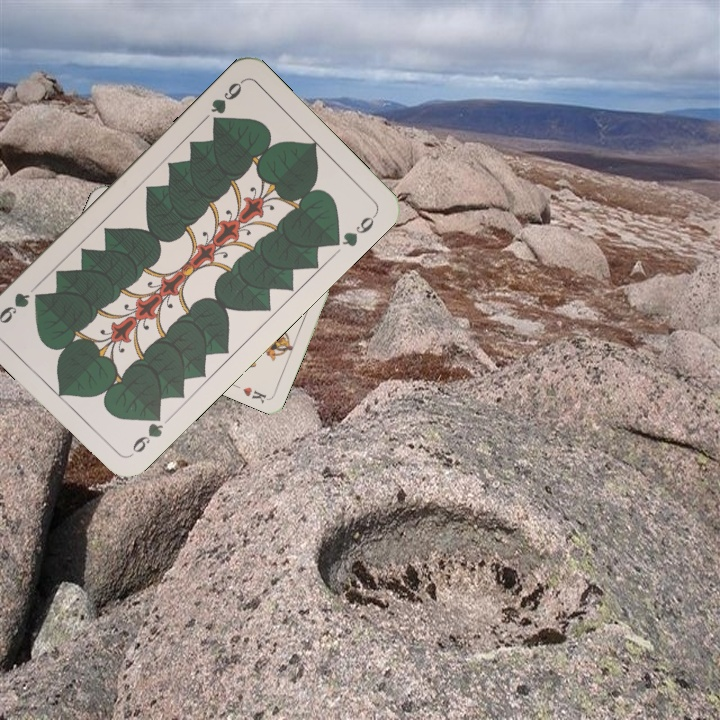G9: (125, 407, 172, 459), (206, 76, 246, 129)
